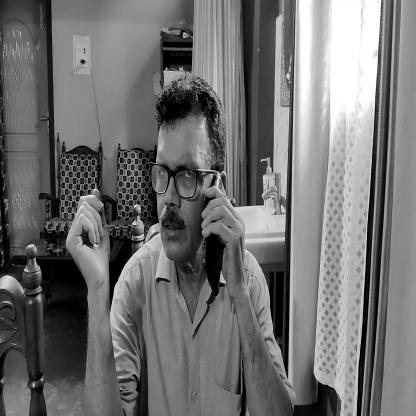Distracted: (156, 97, 214, 268)
